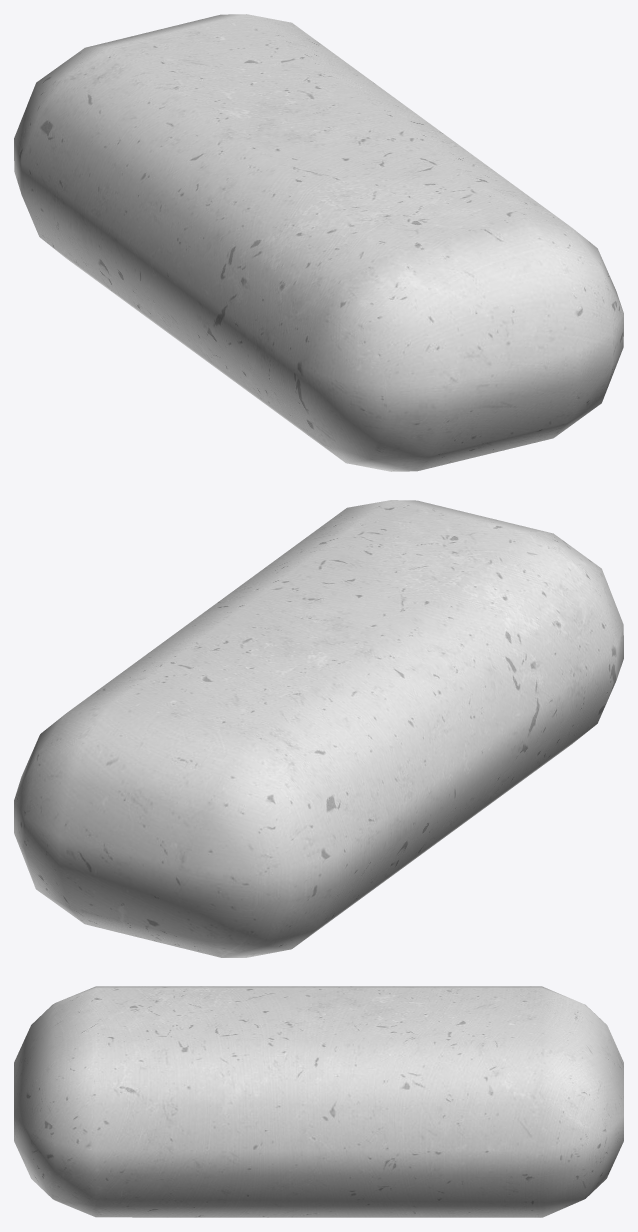
Rendered from SM_Pill.glb.
3 views of the same model, one above another, from view 1: azimuth 30°, elevation 25°; view 2: azimuth 150°, elevation 25°; view 3: azimuth 270°, elevation 25° (orthographic). The views are drawn at different scales.
Parts seen in each view (by area): view 1: SM_Pill; view 2: SM_Pill; view 3: SM_Pill.
Part boxes in pixels (bbox=[...]): SM_Pill: bbox=[14, 14, 623, 471]; SM_Pill: bbox=[14, 500, 623, 957]; SM_Pill: bbox=[14, 986, 623, 1217].
Bounding box in the file's own units: 0.009 × 0.006 × 0.019.
1 material, 1 textured.
